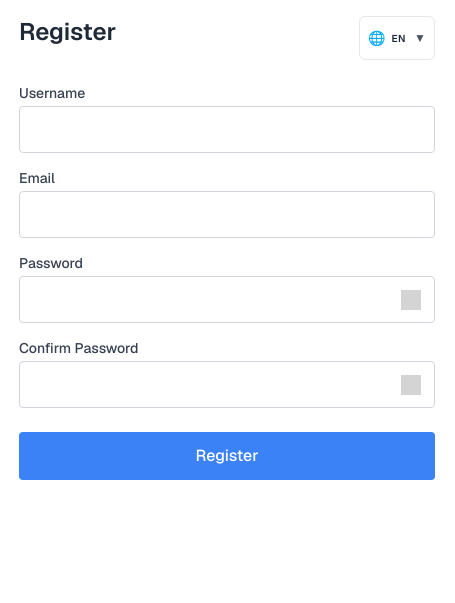
Test: RegisterForm › shows pending approval message for unapproved user
In the field labelled "Username": coordinates (227, 130) x1=19 y1=106 x2=435 y2=153, type "testuser"
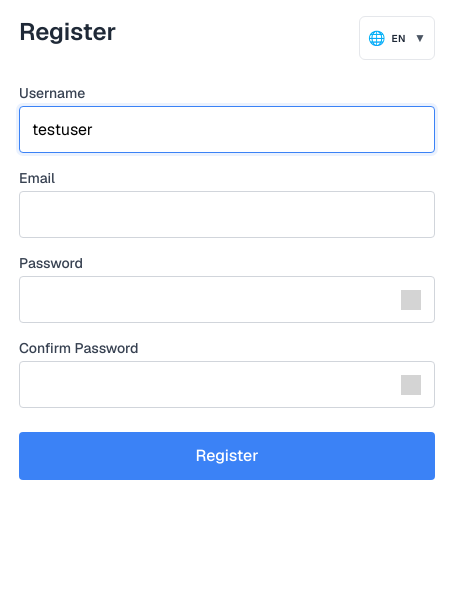
In the field labelled "Email": coordinates (227, 214) x1=19 y1=191 x2=435 y2=238, type "test@example.com"
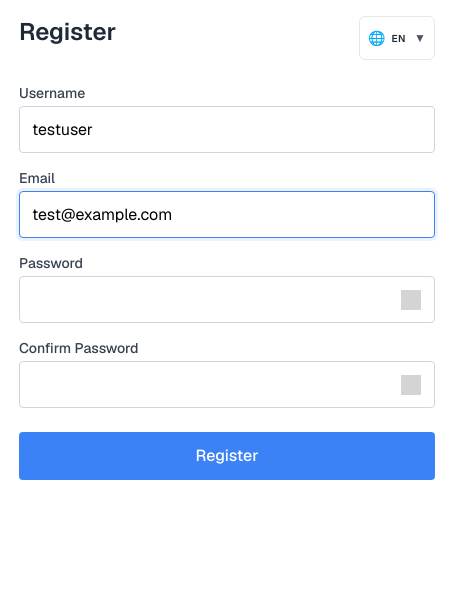
In the password field labelled "Password": coordinates (227, 300) x1=19 y1=276 x2=435 y2=323, type "TestPass123!"
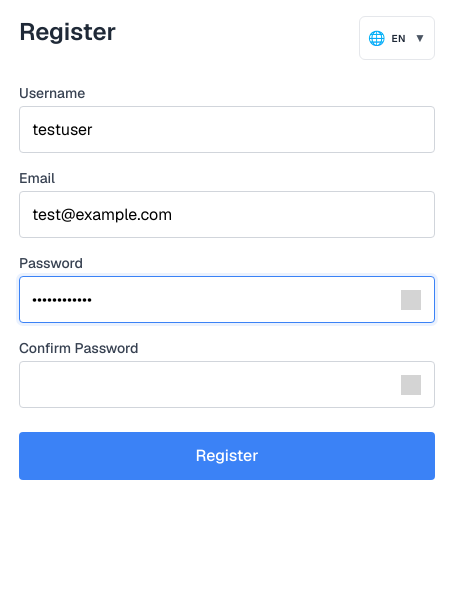
In the password field labelled "Confirm Password": coordinates (227, 384) x1=19 y1=361 x2=435 y2=408, type "TestPass123!"
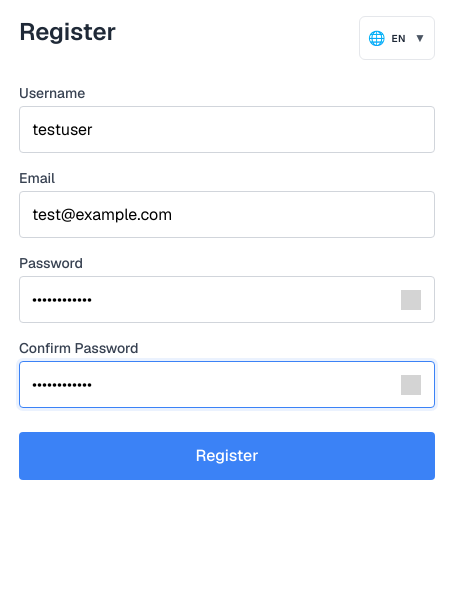
Click the button "Register": coordinates (227, 456) x1=19 y1=432 x2=435 y2=480
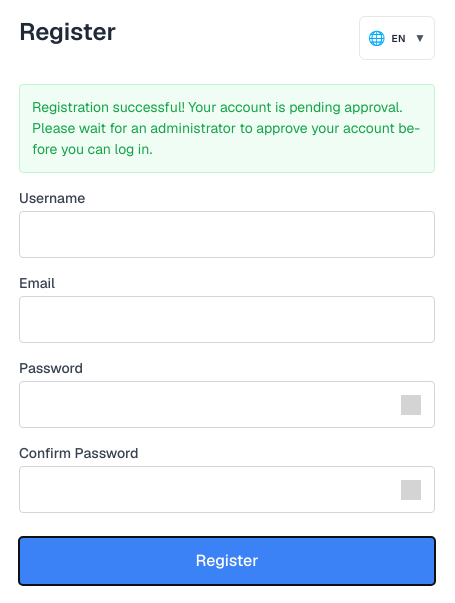
Now the text "Your account is pending approval" is shown, box x1=32 y1=98 x2=420 y2=158
